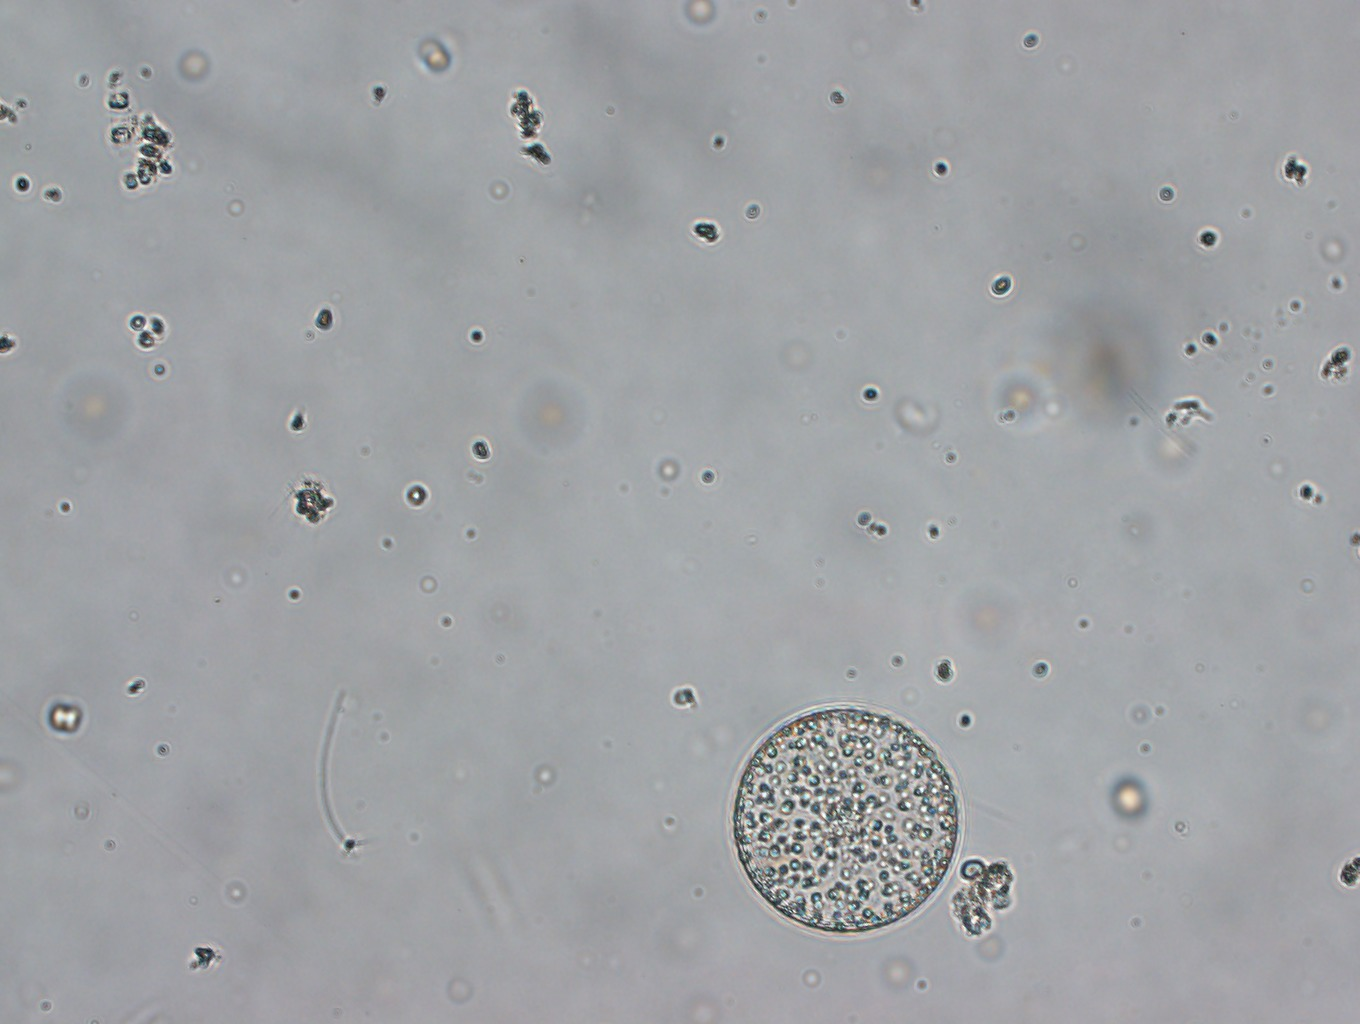coscinodiscus: (722, 706, 960, 942)
